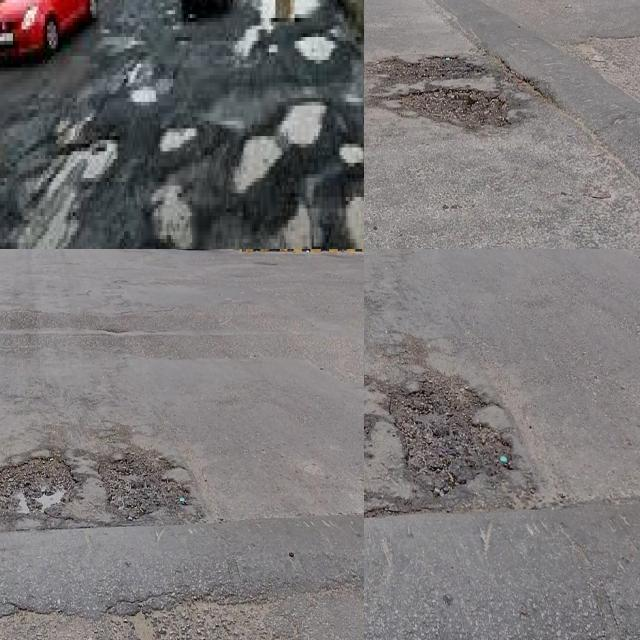Pothole: (14, 117, 118, 249), (390, 379, 506, 484), (376, 50, 502, 129), (98, 443, 191, 521), (237, 106, 324, 189), (233, 0, 320, 60), (0, 454, 78, 516), (241, 208, 312, 249), (124, 56, 175, 106), (150, 189, 192, 249), (292, 26, 339, 64), (160, 128, 196, 155), (346, 197, 364, 249), (339, 144, 364, 167)
